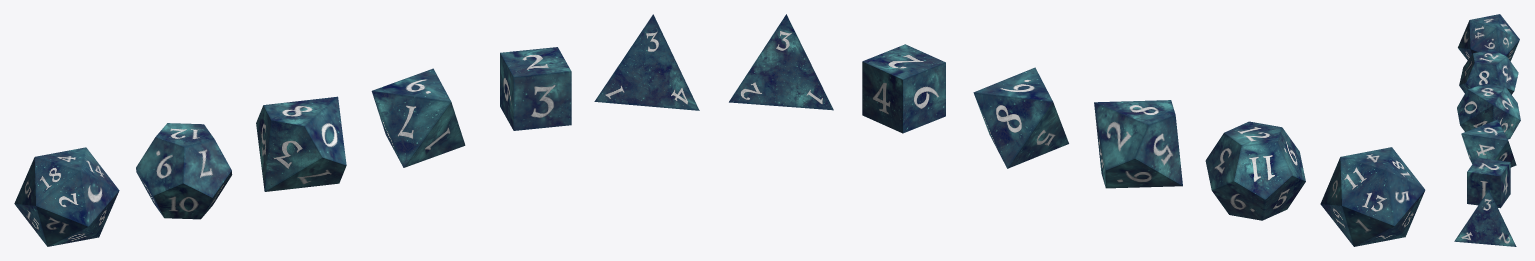
The model's file is dices_base.glb.
The picture shows the model from 3 angles, left to right: view 1: azimuth 30°, elevation 25°; view 2: azimuth 150°, elevation 25°; view 3: azimuth 270°, elevation 25°; orthographic projection. The views are drawn at different scales.
Visible parts, largest first — view 1: d20, d10, d12, d8, d6, d4; view 2: d12, d20, d10, d6, d8, d4; view 3: d10, d20, d12, d6, d4, d8.
Boxes of the visible parts, x1=… form: d20: x1=14, y1=147, x2=119, y2=246; d10: x1=256, y1=96, x2=346, y2=191; d12: x1=136, y1=123, x2=232, y2=219; d8: x1=371, y1=68, x2=465, y2=167; d6: x1=500, y1=47, x2=571, y2=130; d4: x1=594, y1=14, x2=699, y2=110; d12: x1=1205, y1=121, x2=1305, y2=220; d20: x1=1320, y1=147, x2=1425, y2=246; d10: x1=1094, y1=100, x2=1182, y2=188; d6: x1=862, y1=44, x2=945, y2=133; d8: x1=973, y1=67, x2=1068, y2=168; d4: x1=729, y1=14, x2=833, y2=110; d10: x1=1457, y1=83, x2=1520, y2=139; d20: x1=1458, y1=14, x2=1519, y2=61; d12: x1=1459, y1=49, x2=1518, y2=94; d6: x1=1467, y1=158, x2=1510, y2=208; d4: x1=1454, y1=190, x2=1516, y2=246; d8: x1=1461, y1=119, x2=1516, y2=167.
Bounding box in the file's own units: 9.05 × 1.05 × 1.33.
1 material, 1 textured.
